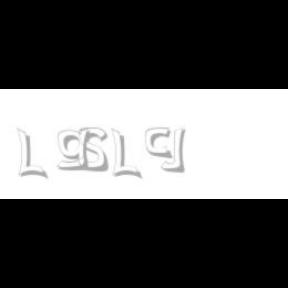J: (160, 128, 186, 172)
L: (17, 128, 45, 180), (111, 128, 139, 180)
S: (78, 128, 110, 172)
c: (146, 128, 174, 160)
g: (57, 128, 94, 171)
